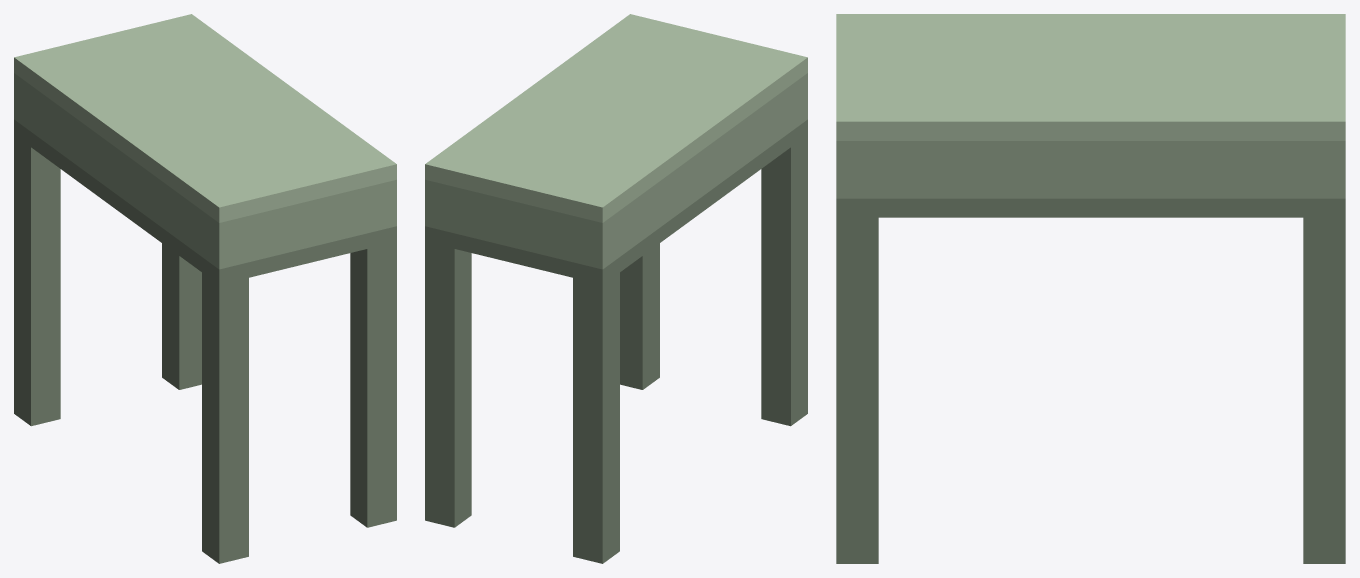
Rendered from mesa_semillero_01.glb.
The picture shows the model from 3 angles, left to right: view 1: azimuth 30°, elevation 25°; view 2: azimuth 150°, elevation 25°; view 3: azimuth 270°, elevation 25°; orthographic projection. The views are drawn at different scales.
Parts seen in each view (by area): view 1: mesa_semillero; view 2: mesa_semillero; view 3: mesa_semillero.
Boxes of the visible parts, <box> form: mesa_semillero: <box>14,14,396,563</box>; mesa_semillero: <box>425,14,807,563</box>; mesa_semillero: <box>836,14,1345,563</box>.
Size of the model in its own units: 1 by 1.92 by 2.
